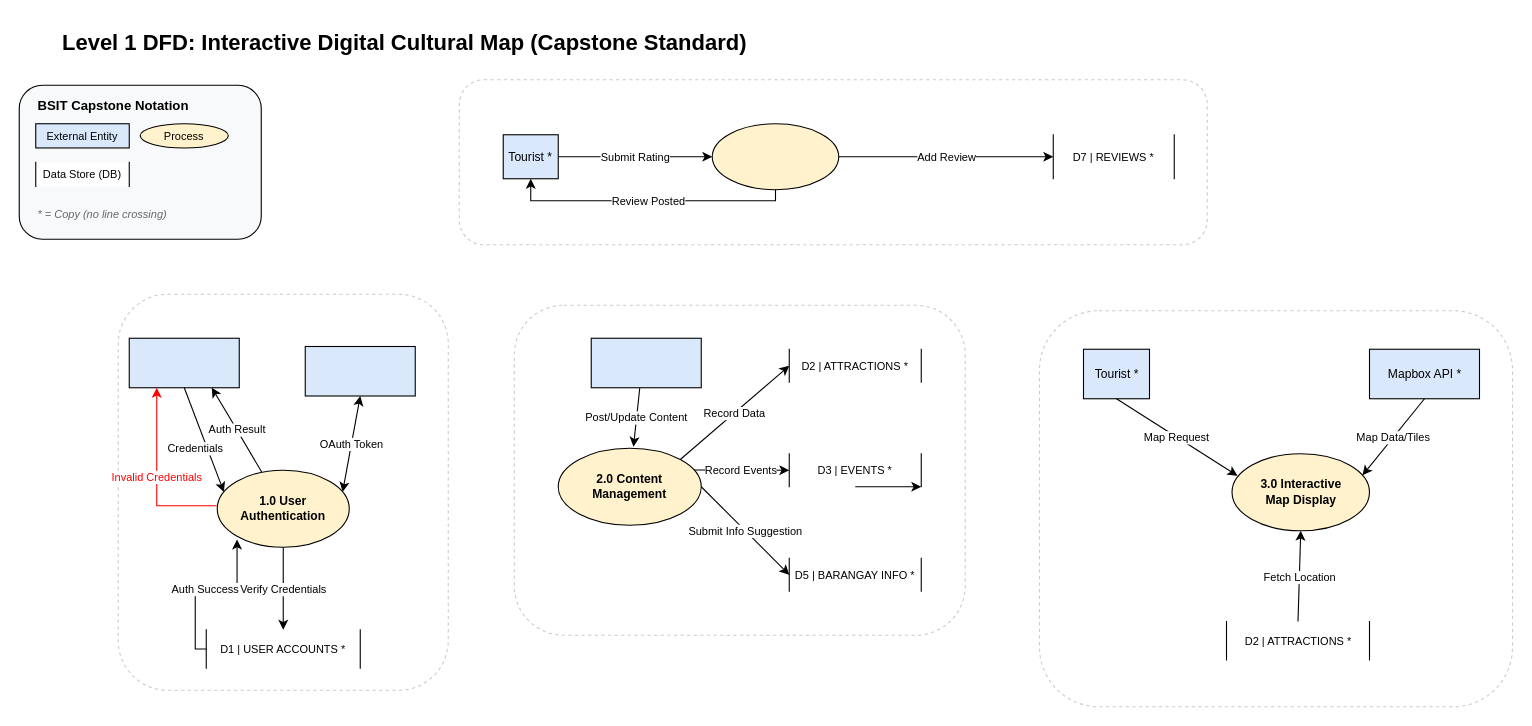
The diagram is 1532 pixels wide and 726 high, and some of its shapes have lost their labels. Each missing label, with the box of its shape:
8.0 Review & Feedback: (711, 123, 839, 190)
Contributor *: (590, 337, 701, 388)
Google OAuth *: (304, 345, 415, 396)
Tourist / Contributor / Admin *: (128, 337, 239, 388)
